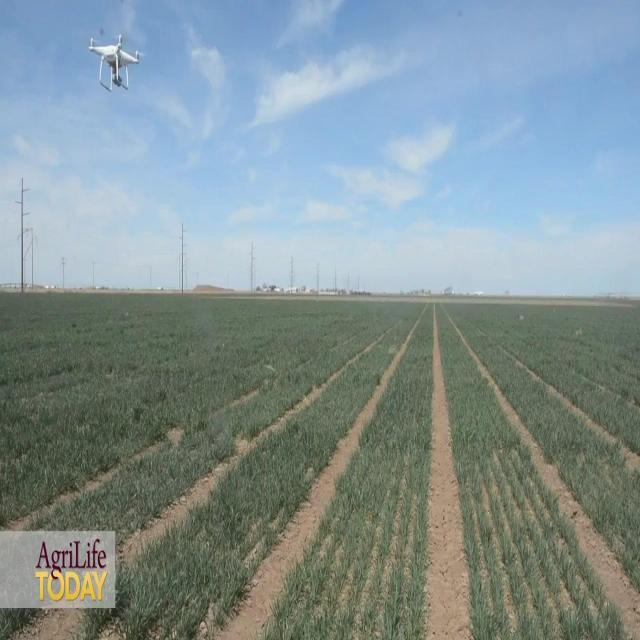drone: (87, 29, 143, 95)
